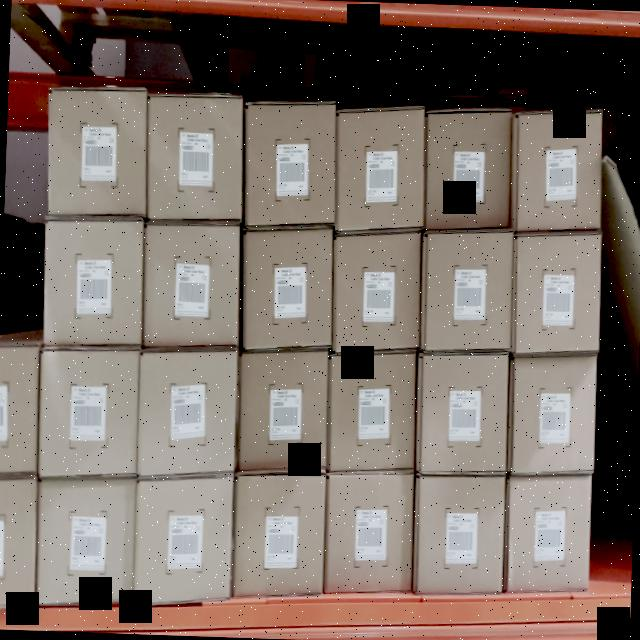box: (36, 340, 140, 481), (240, 95, 340, 233), (141, 219, 243, 351), (46, 86, 148, 218), (34, 478, 136, 606), (144, 94, 243, 224), (42, 218, 144, 344), (138, 350, 240, 474), (134, 476, 234, 602), (422, 110, 517, 233), (240, 224, 332, 350), (232, 470, 326, 592), (322, 470, 412, 596), (424, 228, 514, 352), (327, 351, 419, 472), (512, 110, 602, 233), (508, 352, 599, 473), (418, 350, 509, 470), (512, 234, 602, 354), (414, 472, 506, 588), (331, 230, 421, 348), (336, 112, 426, 228), (504, 478, 592, 596), (240, 354, 330, 468), (0, 345, 40, 480), (0, 479, 37, 612)
